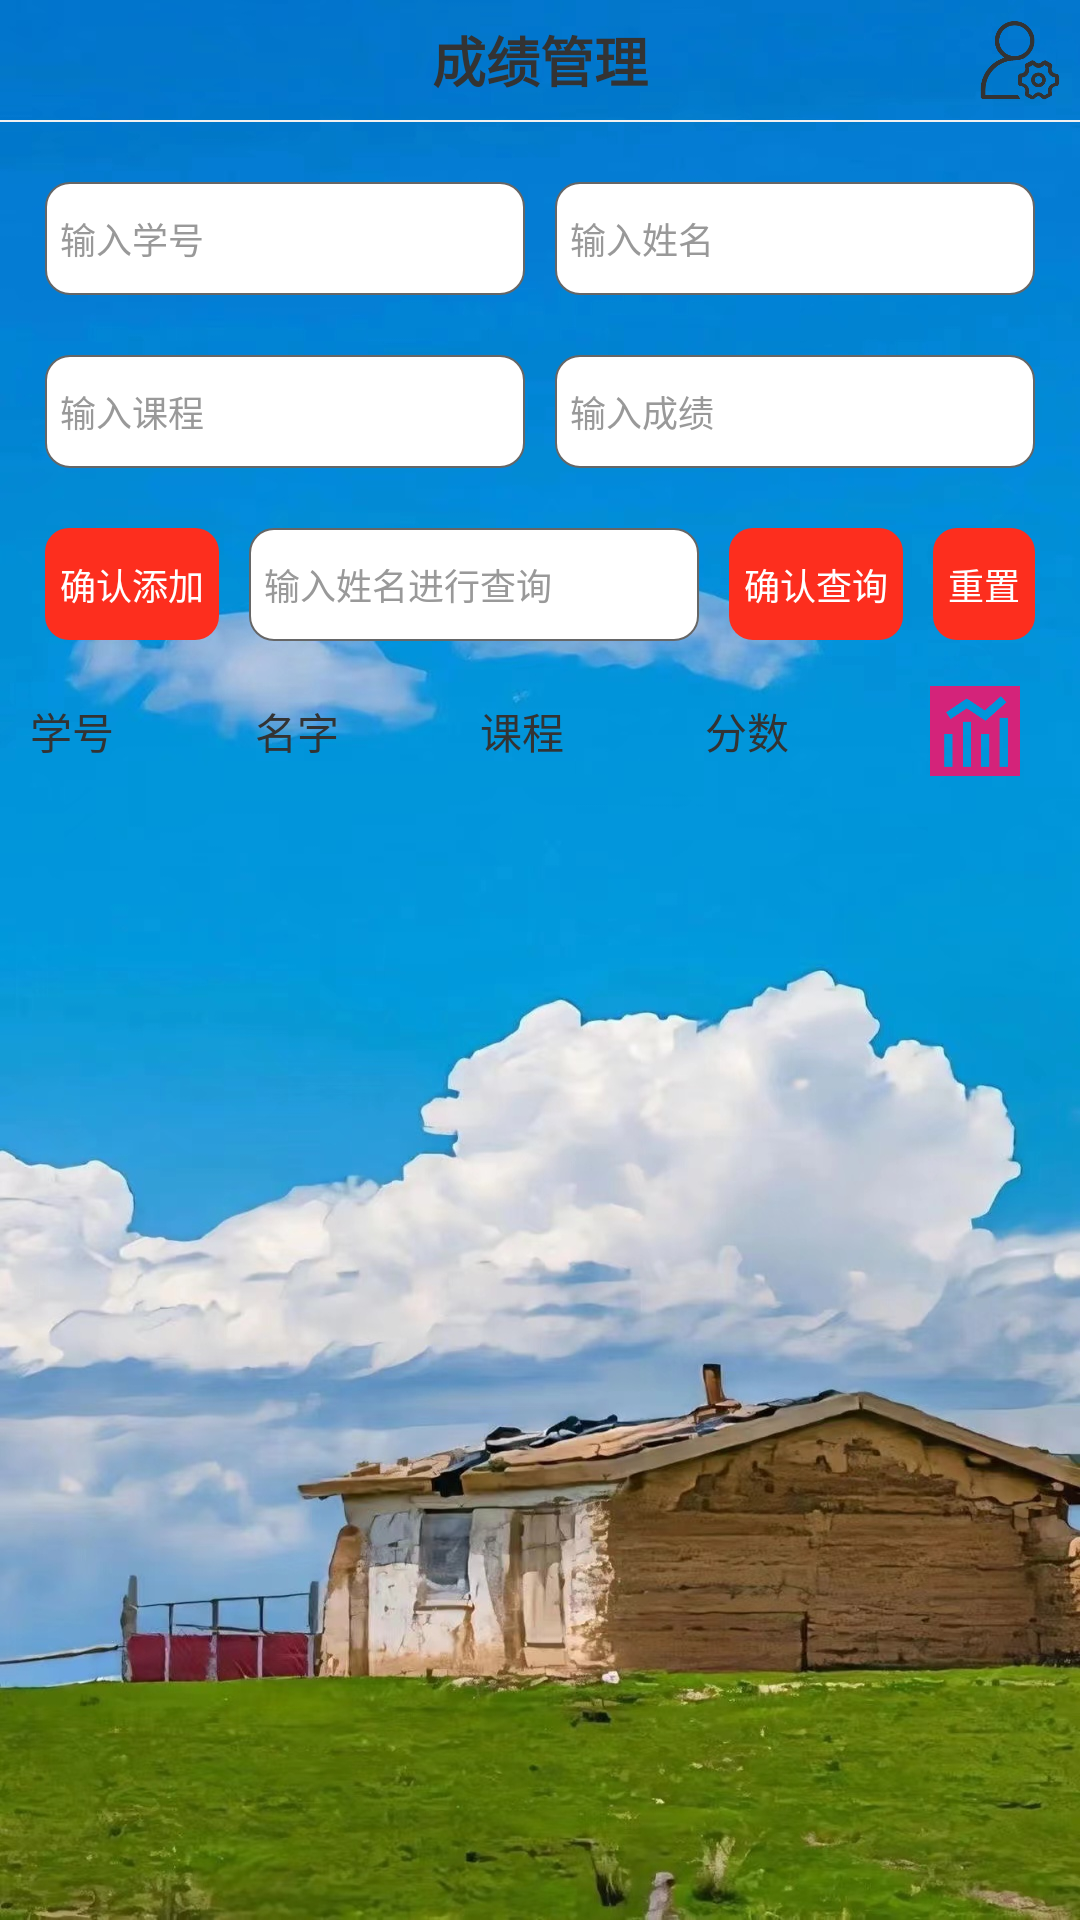

Point at icon controls on the screen. Image size 1080 × 1920, points as (x=x, y=y).
person: (x=1020, y=60)
tongji: (x=975, y=731)
